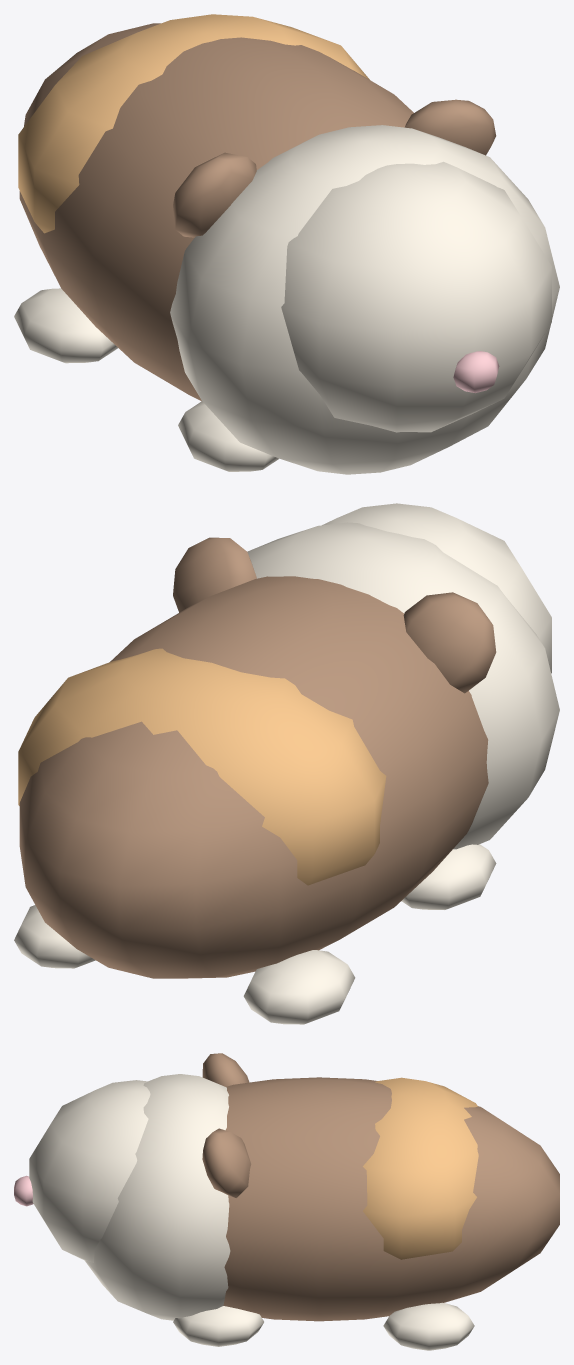
File: guinea.glb
3 renders of one model, top to bottom at view 1: azimuth 30°, elevation 25°; view 2: azimuth 150°, elevation 25°; view 3: azimuth 270°, elevation 25°, orthographic. The views are drawn at different scales.
Parts seen in each view (by area): view 1: guinea-pig; view 2: guinea-pig; view 3: guinea-pig.
Part boxes in pixels (left/top/right/bottom): guinea-pig: left=14, top=14, right=559, bottom=474; guinea-pig: left=14, top=503, right=559, bottom=1024; guinea-pig: left=14, top=1053, right=559, bottom=1350.
Bounding box in the file's own units: 0.154 × 0.132 × 0.2985.
